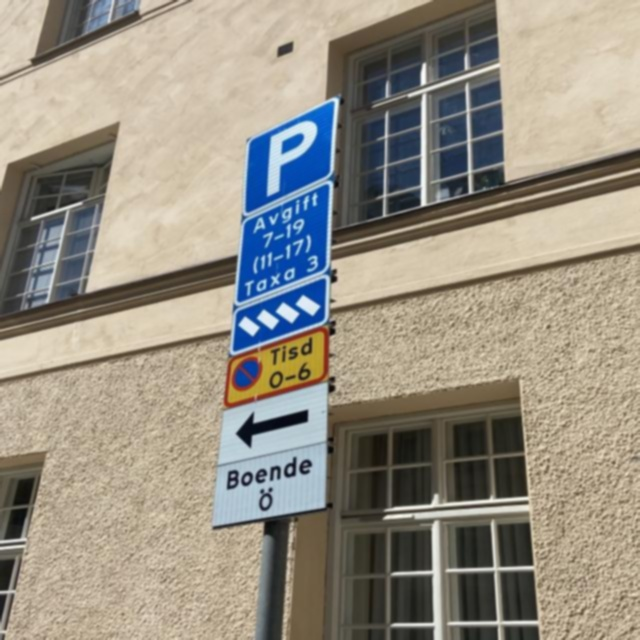P-skylt: (240, 94, 341, 215)
